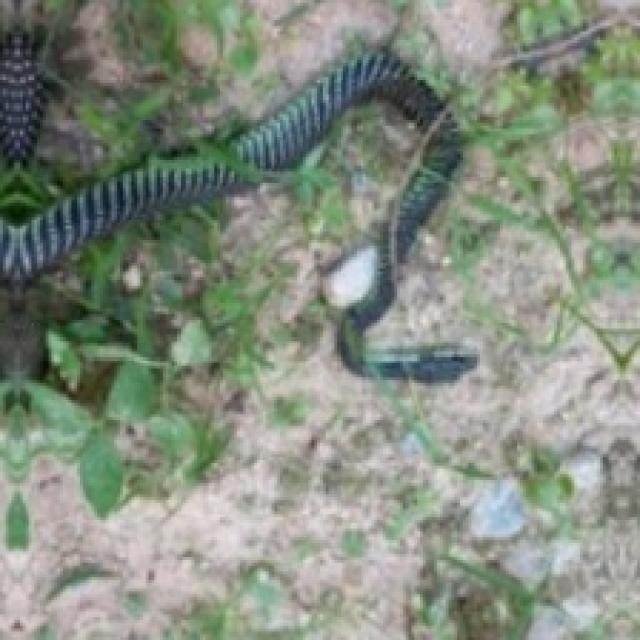paradise tree snake: (0, 46, 460, 374), (0, 31, 40, 157)
